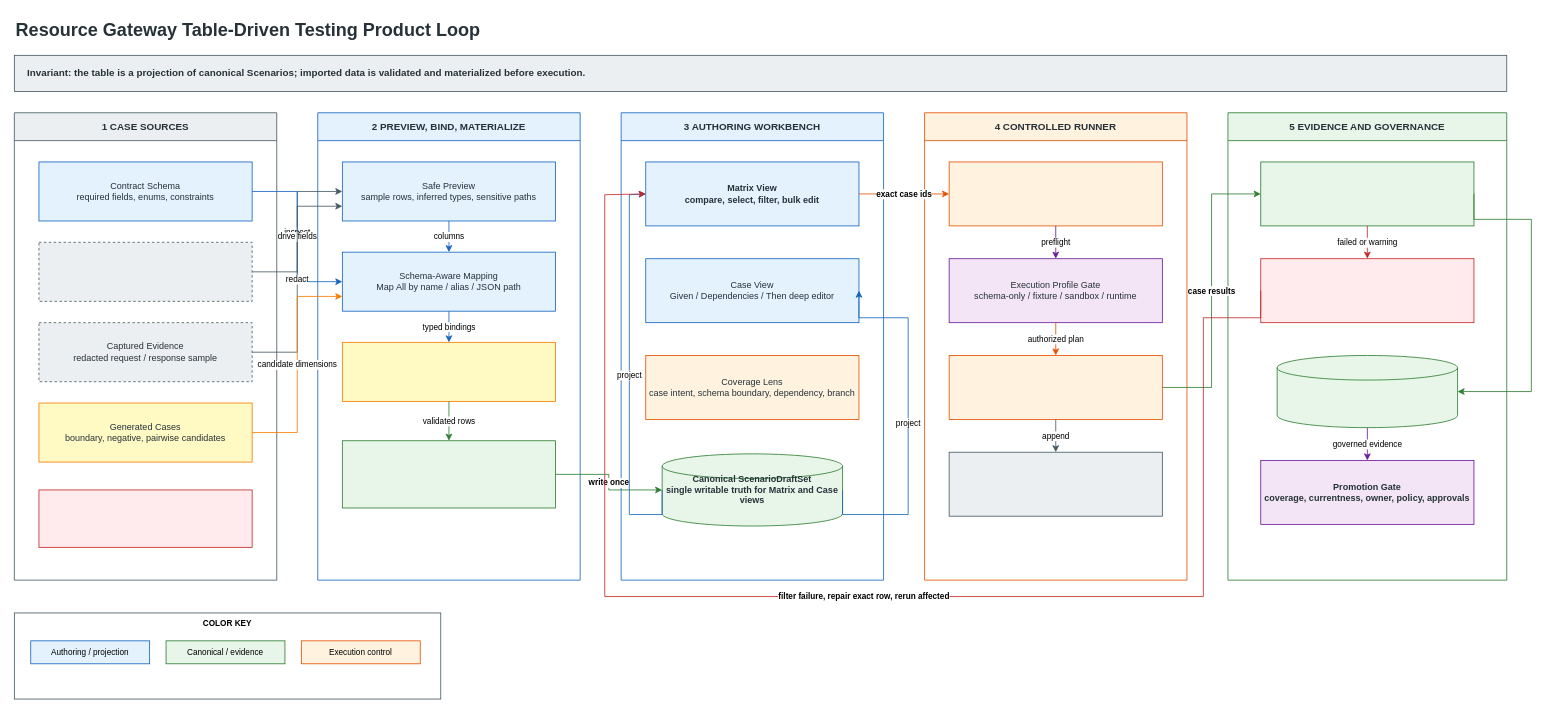
This 1552x713 diagram has some shape labels left out. The centre of each missing label's shape, as x and y in pixels:
Attempt History retry never overwrites the first failure: pixel 1055 483
Bounded Suite Execution idempotency, quotas, cancellation, checkpoints: pixel 1055 387
CSV / JSON Dataset local, uploaded, or workspace asset: pixel 145 271
Deterministic Materialization Scenario rows + source / mapping fingerprints: pixel 449 474
Exact Run Selection all / selected / failed / changed / affected: pixel 1055 193
Failure Detail Expected / Actual / Diff + first root cause: pixel 1367 290
Never dereference a live external dataset during a governed run: pixel 145 518
Row Verdict execution, assertions, freshness, proof strength: pixel 1367 193
Signed Evidence Bundle exact Scenario, Fixture, target and run coordinates: pixel 1367 391
Value Semantics MISSING / NULL / EMPTY / DEFAULT are explicit: pixel 449 371
